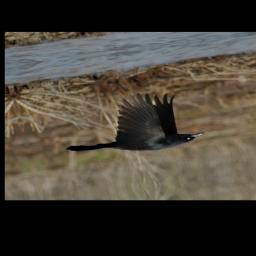Crow: (53, 85, 209, 163)
